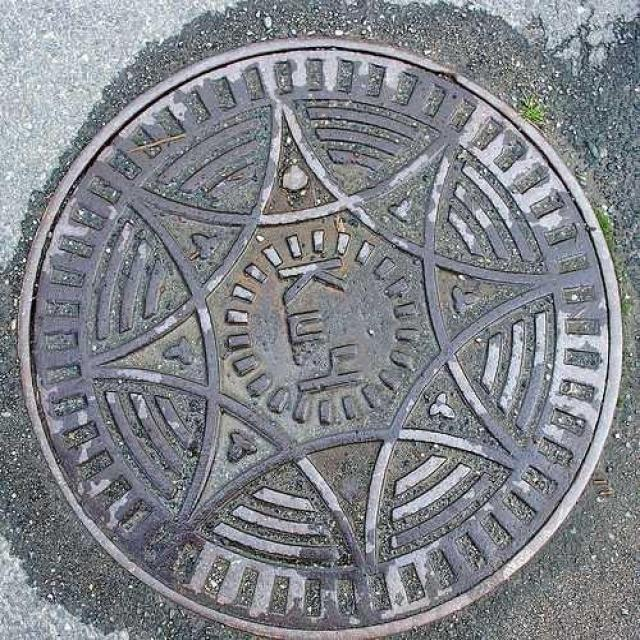manhole: (18, 39, 621, 638)
